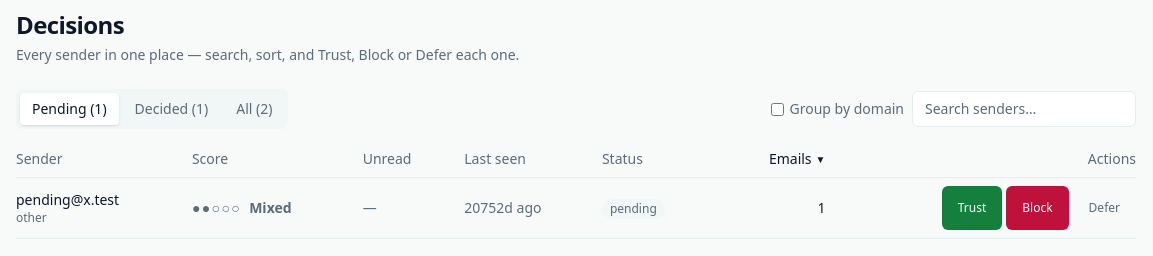
Test case: Dashboard — URL-controlled tab + detail (#120) › puts the active tab in the URL, preserving ?demo=1; default pending stays clean
The image size is (1153, 256).
Expected: the text "pending@x.test" is shown, [16,190,119,209]
Step 1. Click the tab "decided (1)" → (171, 109), box [123,93,220,125]
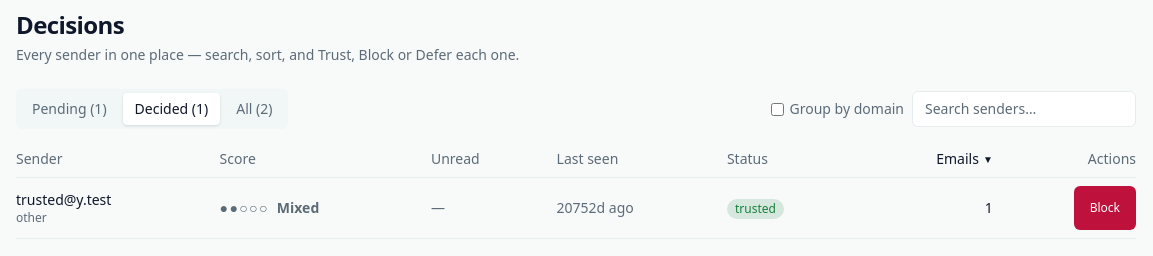
Expected: the text "trusted@y.test" is shown, [16,190,111,209]
